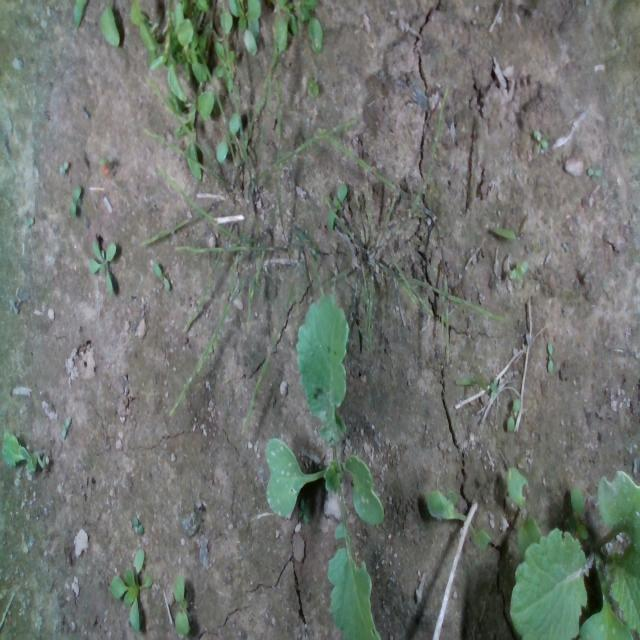weed: (82, 232, 121, 293), (172, 575, 190, 635), (66, 181, 90, 218), (148, 256, 174, 289), (530, 126, 550, 161), (506, 396, 521, 431), (60, 412, 74, 442), (58, 156, 76, 177), (546, 342, 554, 372)
